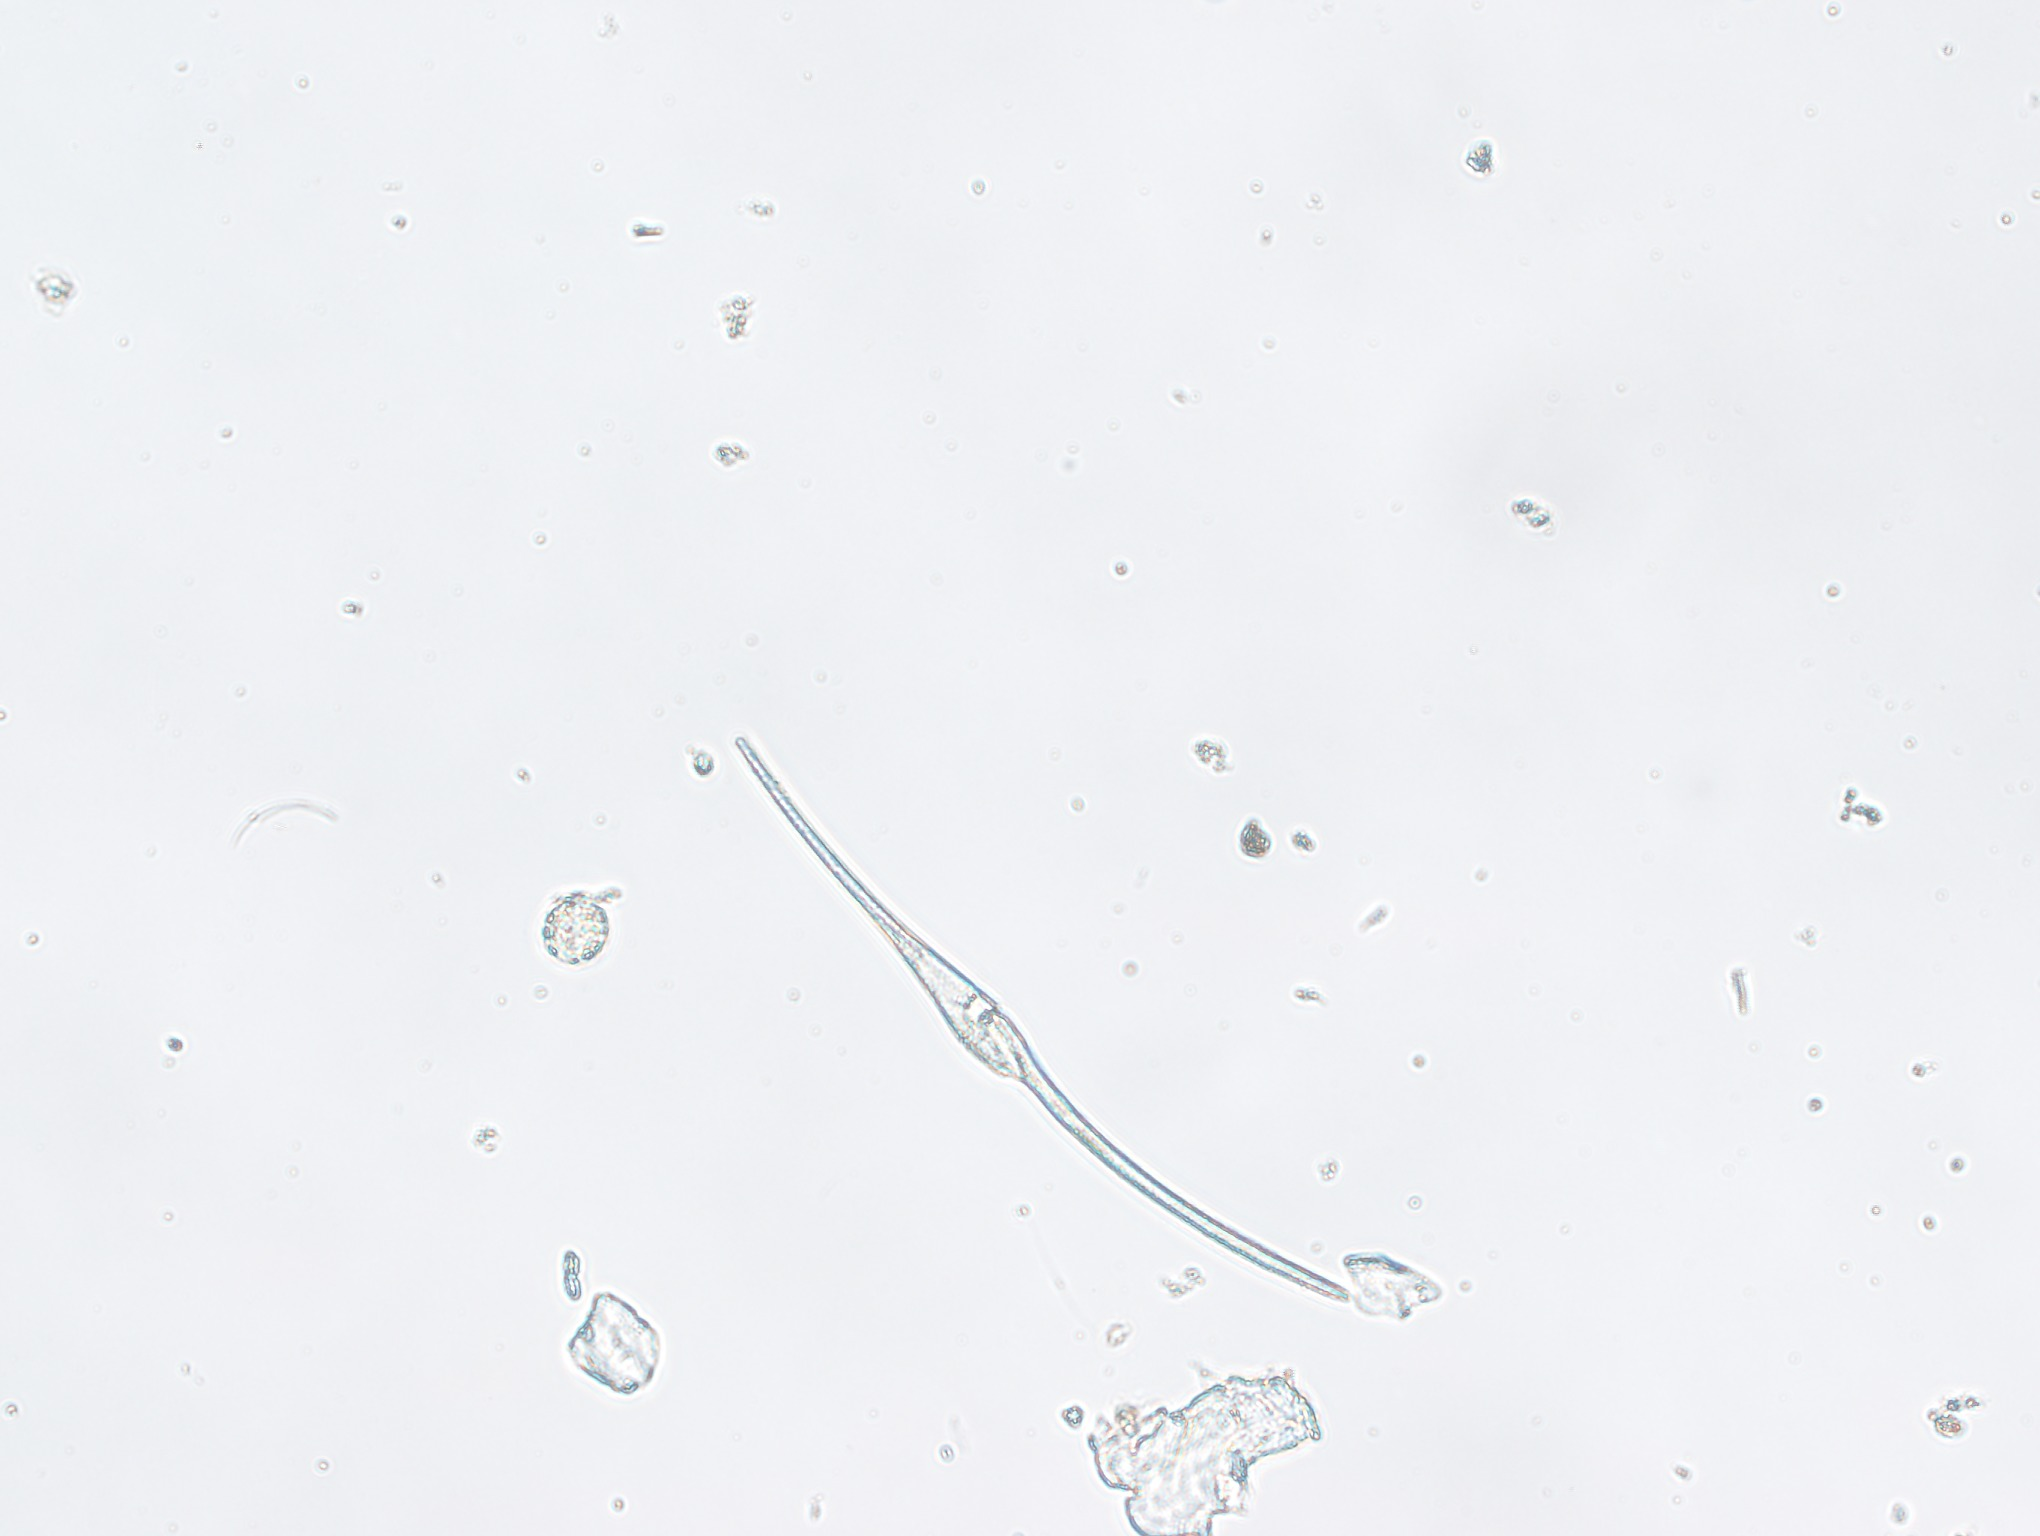ceratium fusus: (732, 731, 1359, 1329)
